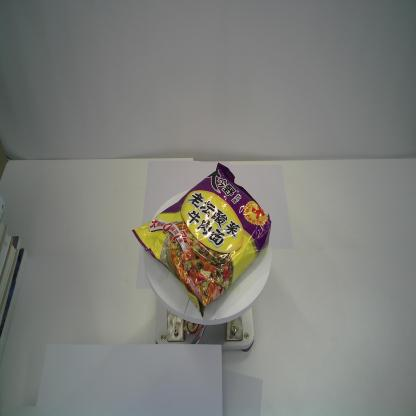Instant Noodles: (130, 161, 273, 322)
